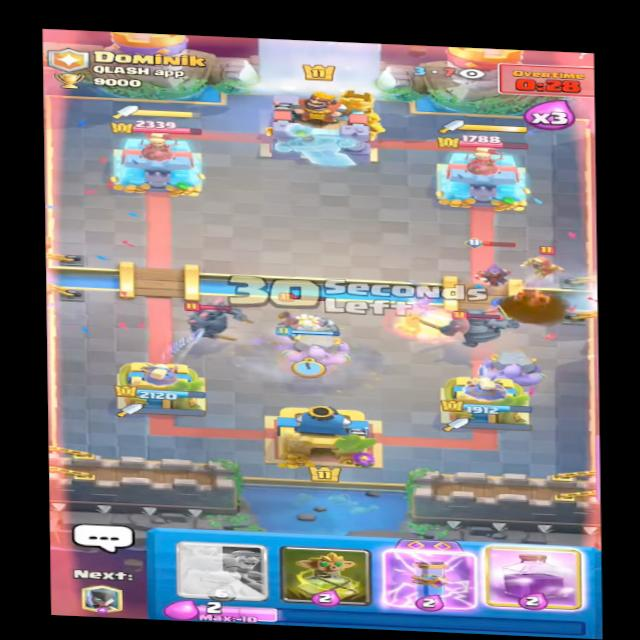Evowizard: (457, 232, 520, 294)
Pekka: (172, 290, 248, 340), (439, 305, 519, 351)
Royalghost: (269, 291, 343, 347)
Wizard: (517, 238, 577, 281)
